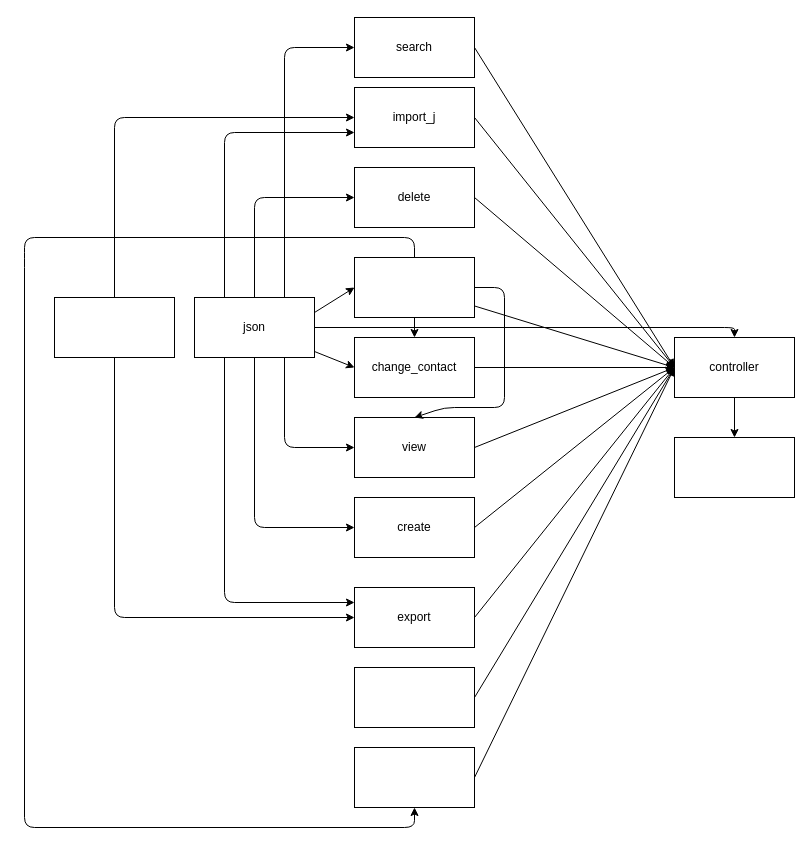
This 812x853 diagram has some shape labels left out. Each missing label, with the centre of its shape:
"checks" goes at [414,287].
"csv" goes at [114,327].
"logger" goes at [414,697].
"main" goes at [734,467].
"reception" goes at [414,777].
